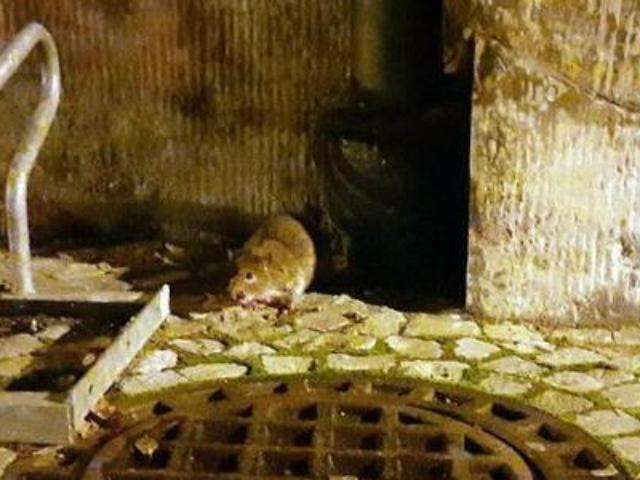rat: (213, 186, 339, 322)
